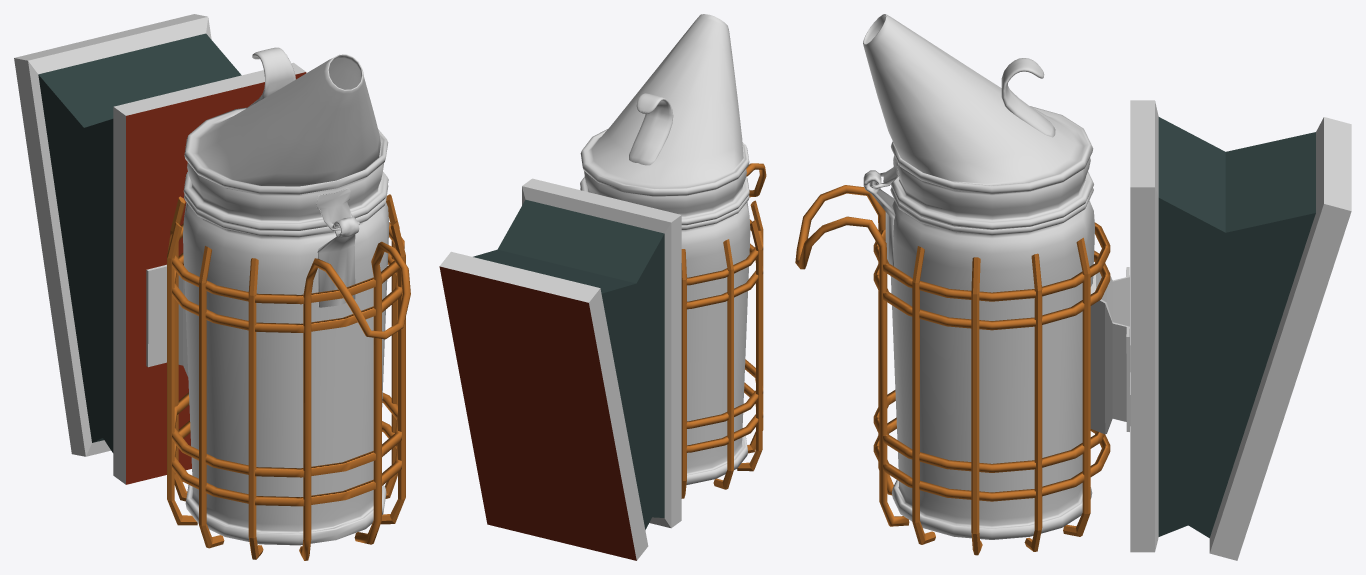
Rendered from Mesh_Smoker_Textured_001.fbx.
3 renders of one model, left to right at view 1: azimuth 30°, elevation 25°; view 2: azimuth 150°, elevation 25°; view 3: azimuth 270°, elevation 25°, orthographic. The views are drawn at different scales.
Visible parts, largest first — view 1: Mesh_Smoker.001 (×4); view 2: Mesh_Smoker.001 (×4); view 3: Mesh_Smoker.001 (×3).
Part boxes in pixels (bbox=[...]): Mesh_Smoker.001 (×4): bbox=[14, 14, 410, 560]; Mesh_Smoker.001 (×4): bbox=[439, 14, 766, 560]; Mesh_Smoker.001 (×3): bbox=[795, 14, 1351, 560].
Bounding box in the file's own units: 231 × 538 × 541.
